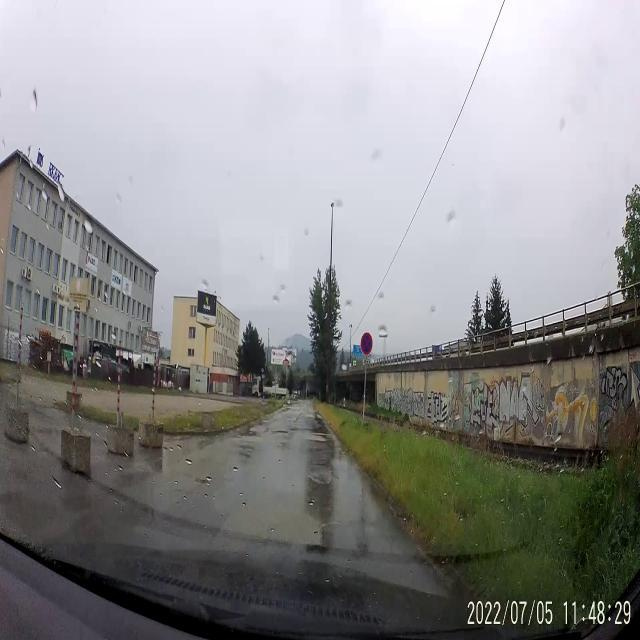Pothole: (267, 425, 289, 443)
